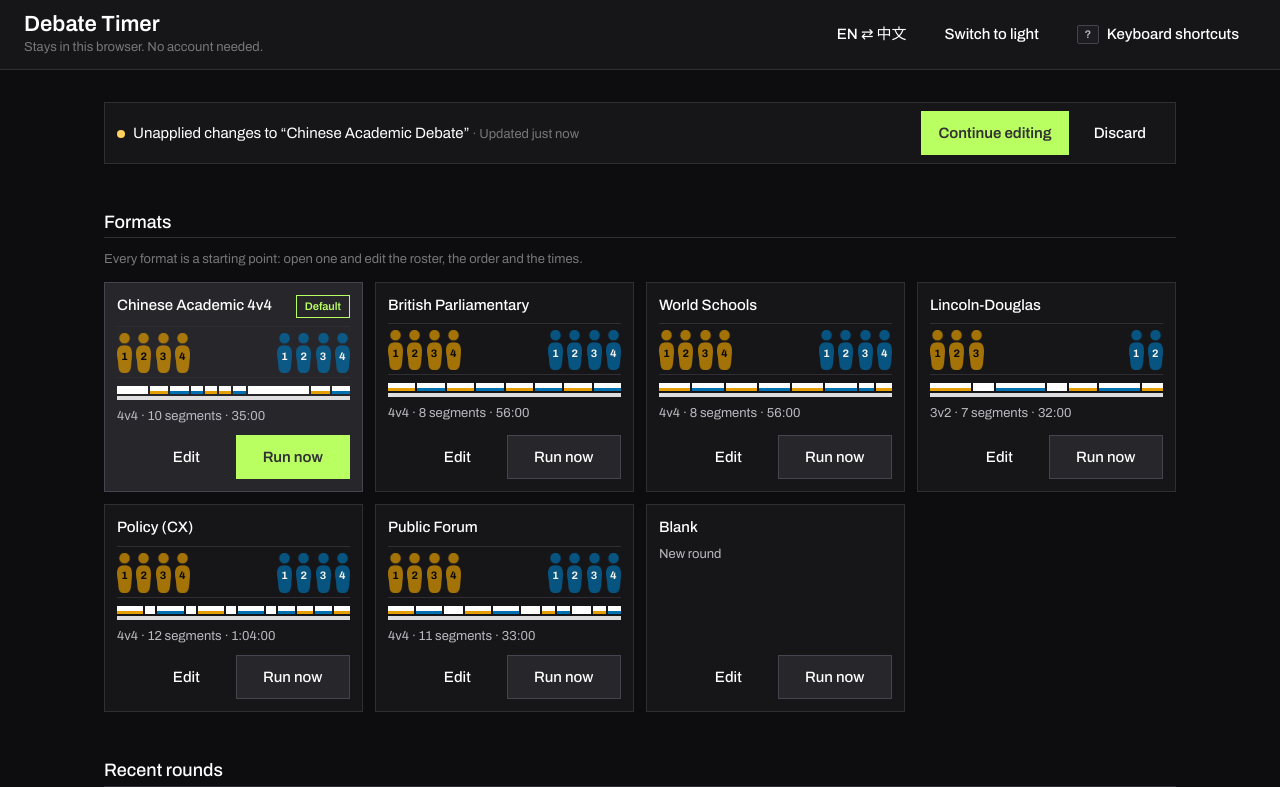
it: Launch, with editor changes that were never applied › asks before Discard throws them away
Step 1. Click the button "Discard" → (1120, 133), box [1077,111,1163,155]
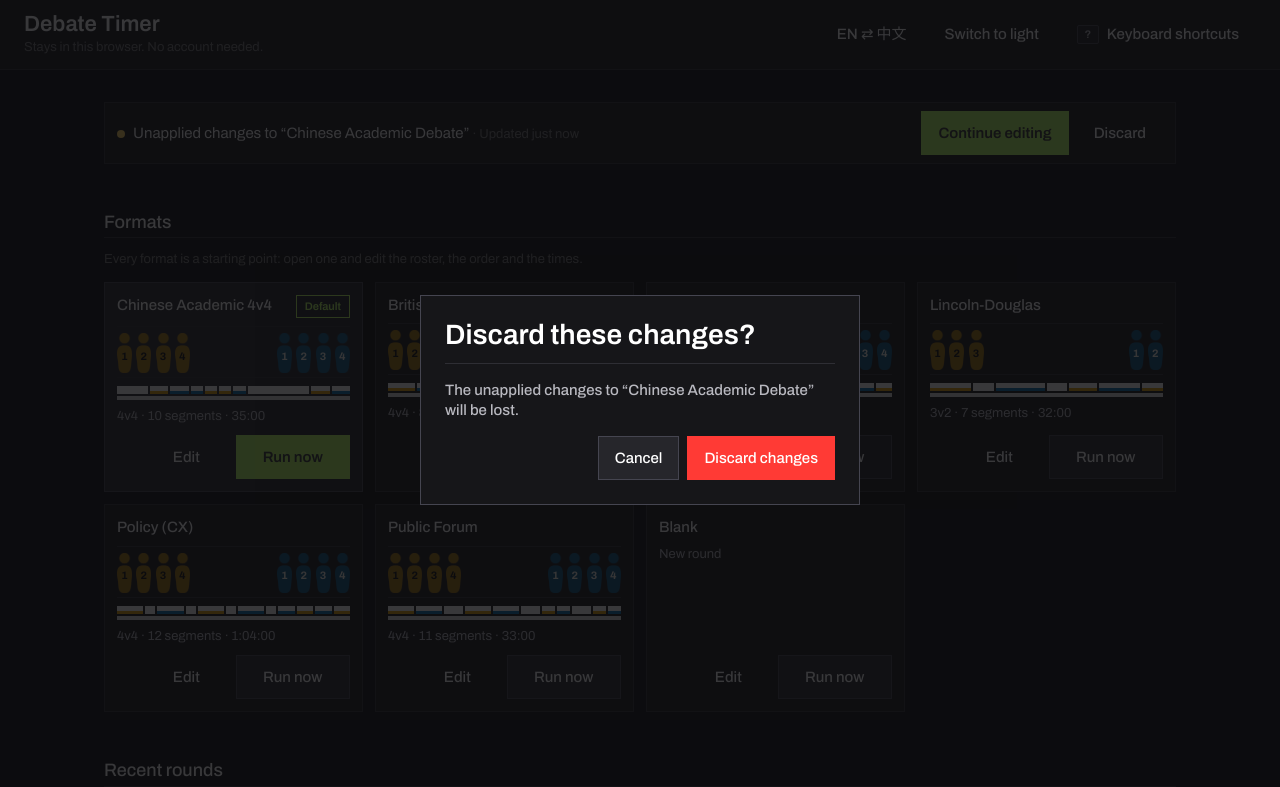
Step 2. Click the button "Cancel" → (639, 458), box [598,436,679,480]
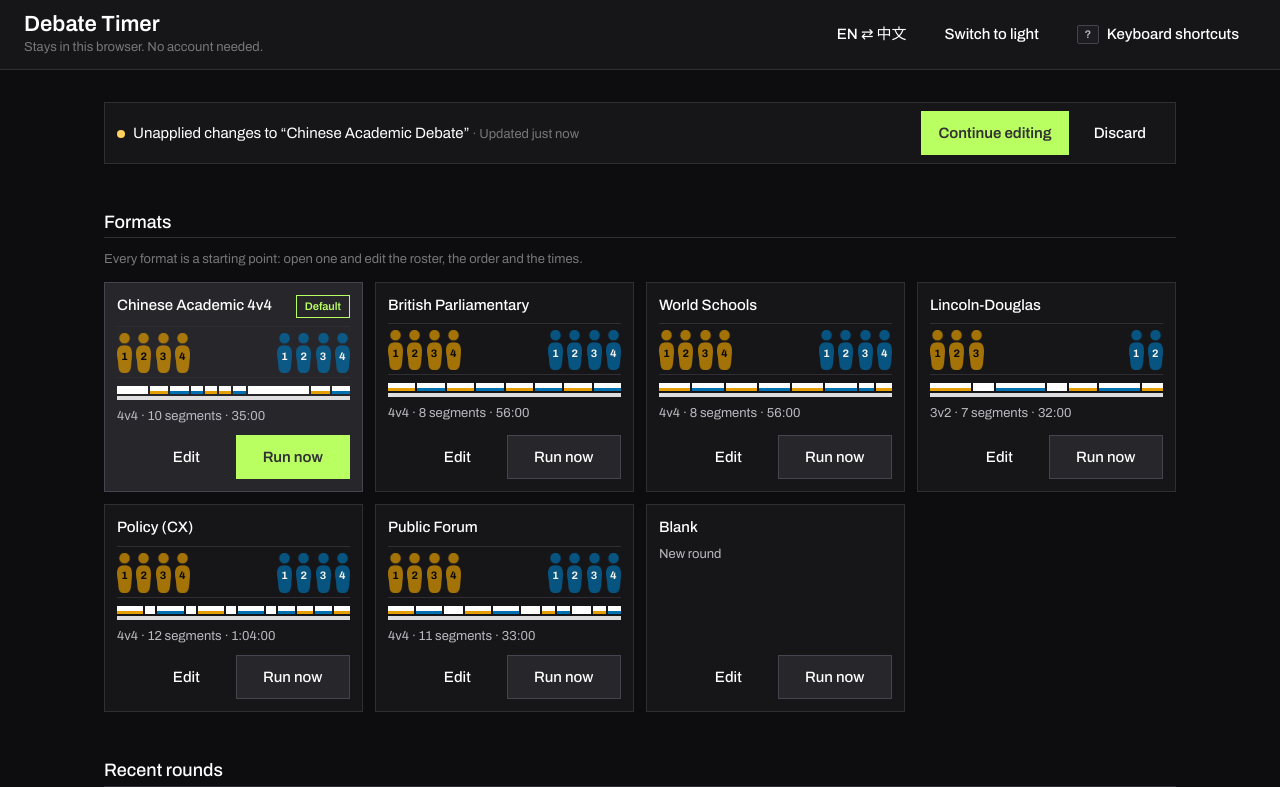
Step 3. Click the button "Discard" → (1120, 133), box [1077,111,1163,155]
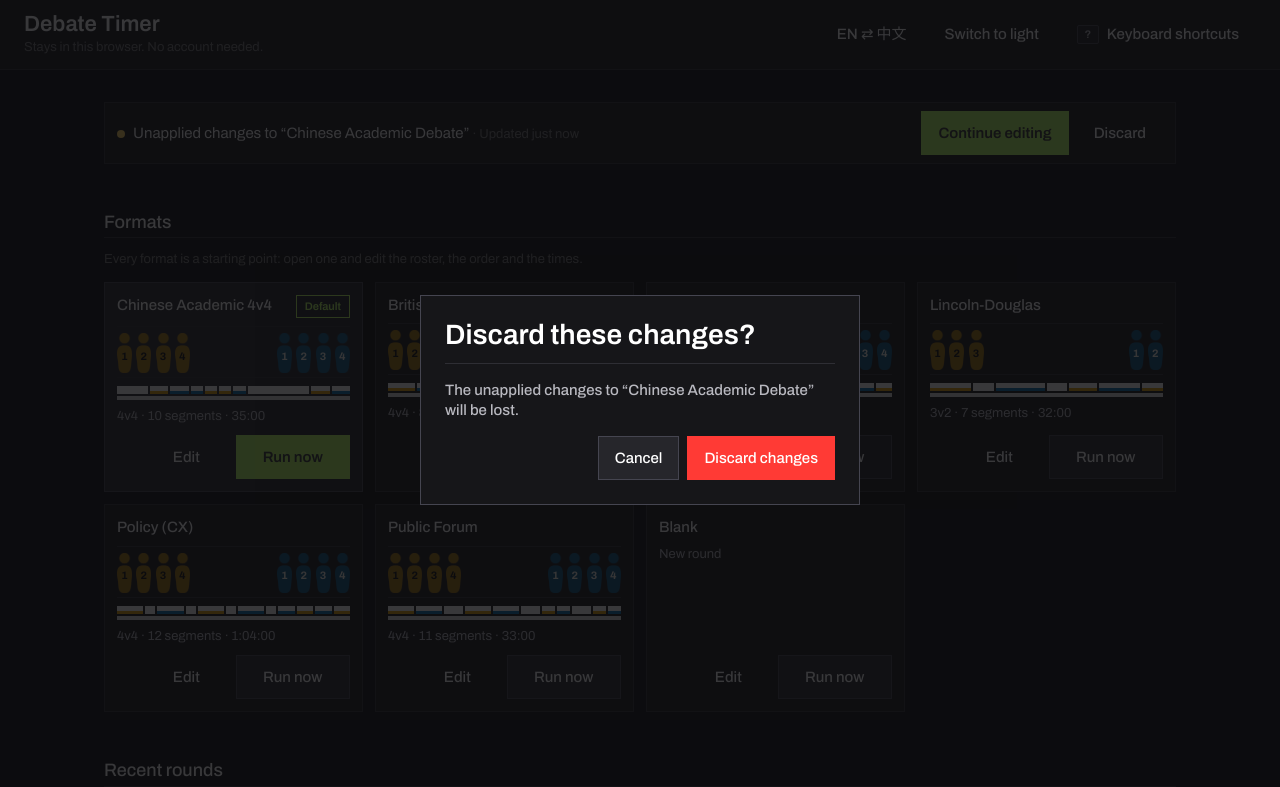
Step 4. Click the button "Discard changes" → (761, 458), box [687,436,835,480]
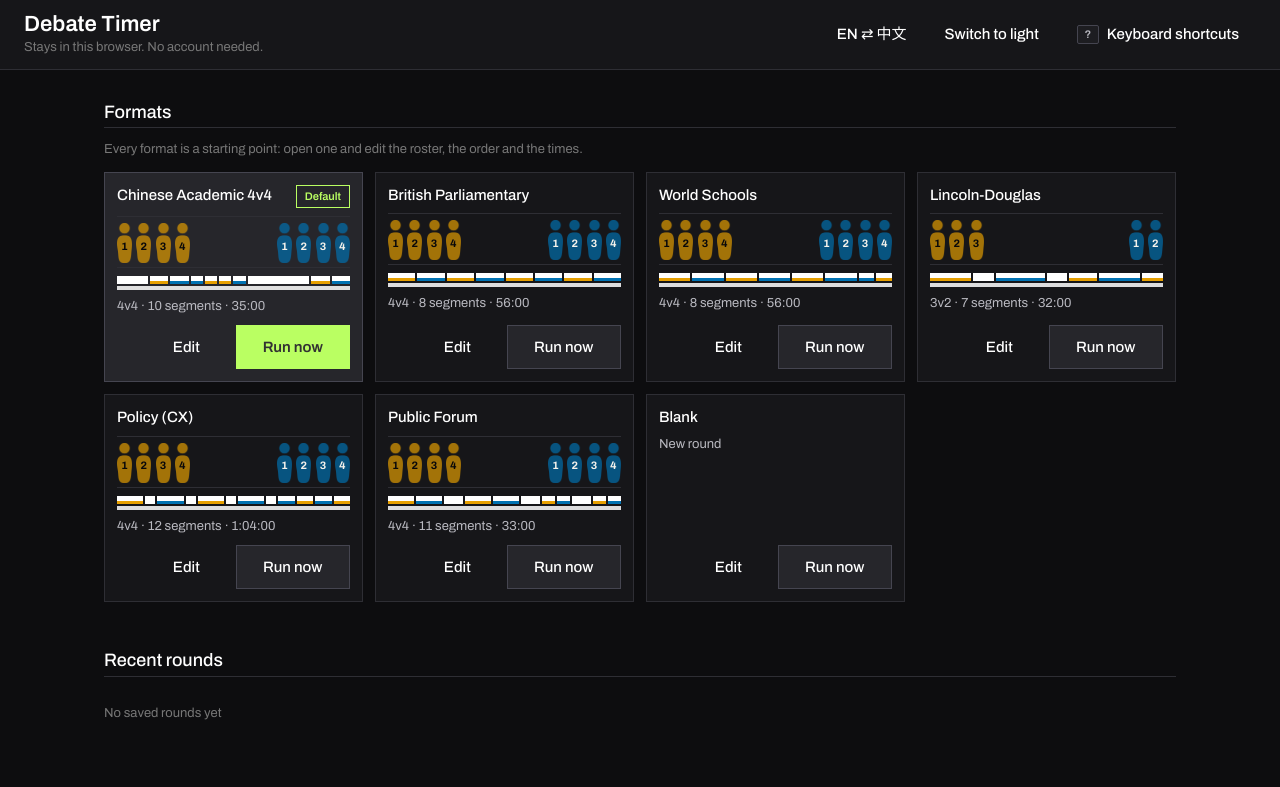
Now the element "Unapplied changes" is gone
